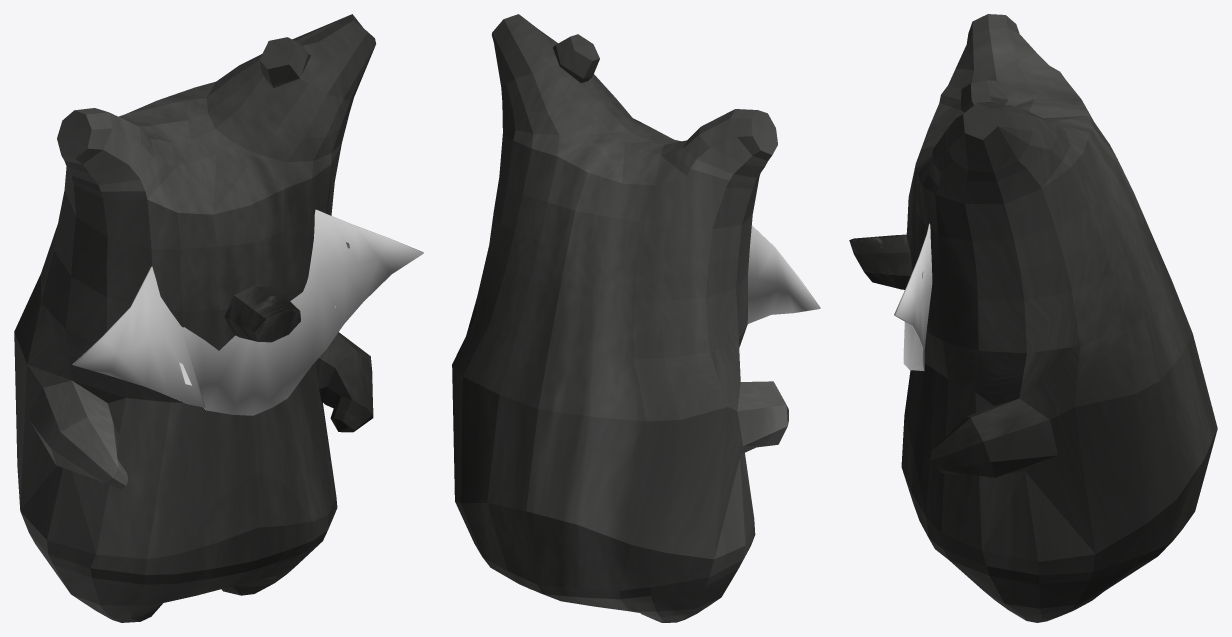
The model's file is frame_0007.obj.
3 views of the same model, side by side, from view 1: azimuth 30°, elevation 25°; view 2: azimuth 150°, elevation 25°; view 3: azimuth 270°, elevation 25° (orthographic). The views are drawn at different scales.
Visible parts, largest first — view 1: korok, leaf, nose; view 2: korok, leaf; view 3: korok, leaf, nose.
Boxes of the visible parts, <box> form: korok: <box>14,14,375,622</box>; leaf: <box>72,209,423,415</box>; nose: <box>224,284,300,342</box>; korok: <box>452,14,788,622</box>; leaf: <box>747,225,820,323</box>; korok: <box>901,14,1217,622</box>; leaf: <box>894,223,932,371</box>; nose: <box>849,234,912,289</box>.
Size of the model in its own units: 1.33 by 2.23 by 1.35.
